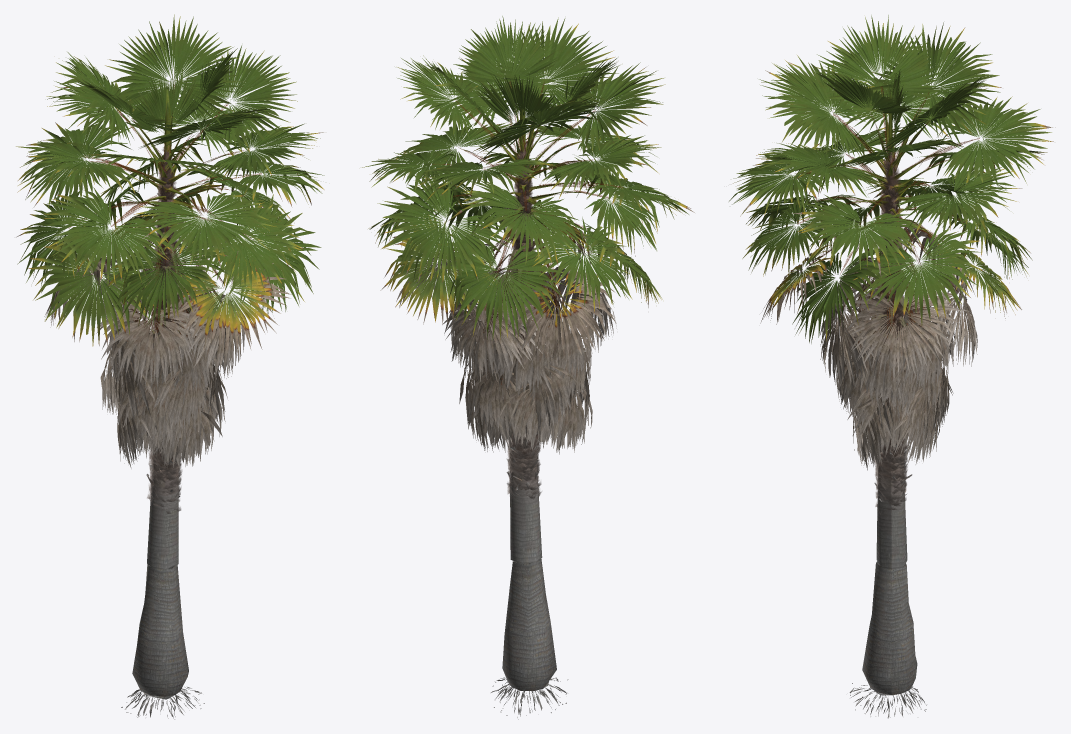
The model's file is palm_fan_c.glb.
The picture shows the model from 3 angles, left to right: view 1: azimuth 30°, elevation 25°; view 2: azimuth 150°, elevation 25°; view 3: azimuth 270°, elevation 25°; orthographic projection.
Parts seen in each view (by area): view 1: Washingtonia_robusta_HD_V2_Wahs crownshaft_0; view 2: Washingtonia_robusta_HD_V2_Wahs crownshaft_0; view 3: Washingtonia_robusta_HD_V2_Wahs crownshaft_0.
Part boxes in pixels (x1,y1,x2,y2): Washingtonia_robusta_HD_V2_Wahs crownshaft_0: (16,14,324,719); Washingtonia_robusta_HD_V2_Wahs crownshaft_0: (362,16,694,719); Washingtonia_robusta_HD_V2_Wahs crownshaft_0: (729,15,1055,718).
Bounding box in the file's own units: 3.79 × 8.52 × 3.87.
22 materials, 22 textured.
